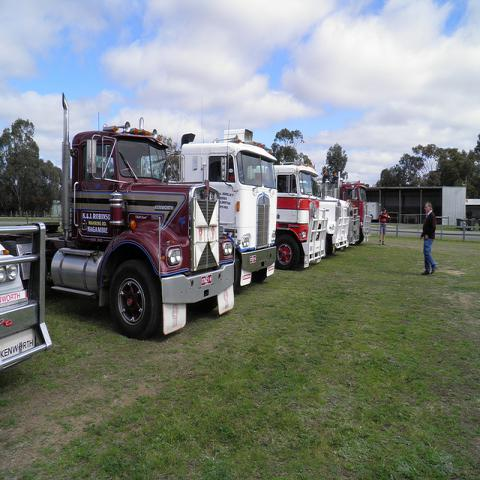truck: (13, 94, 238, 337), (177, 142, 278, 288), (0, 222, 51, 370), (276, 162, 328, 268), (341, 181, 372, 247), (320, 193, 350, 255)
